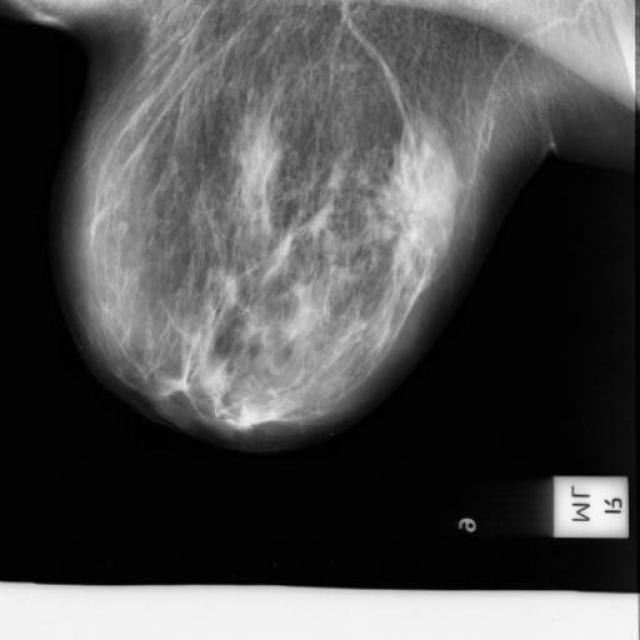cancer: (285, 186, 345, 258)
